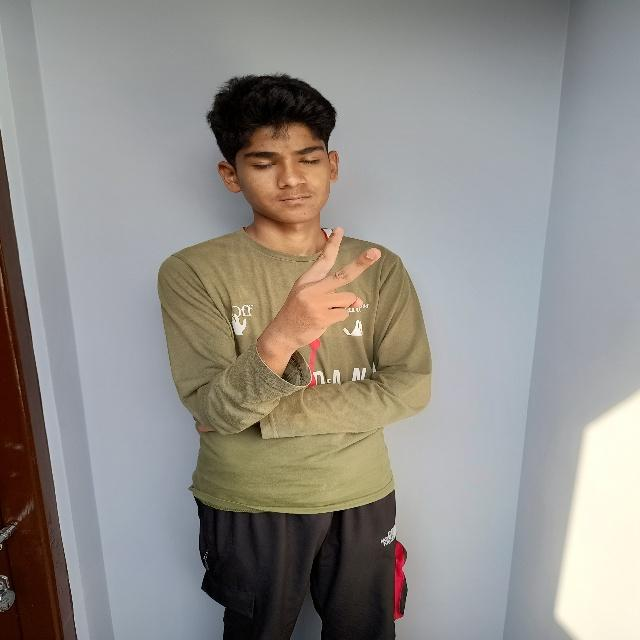Reversed Victory: (274, 223, 386, 360)
